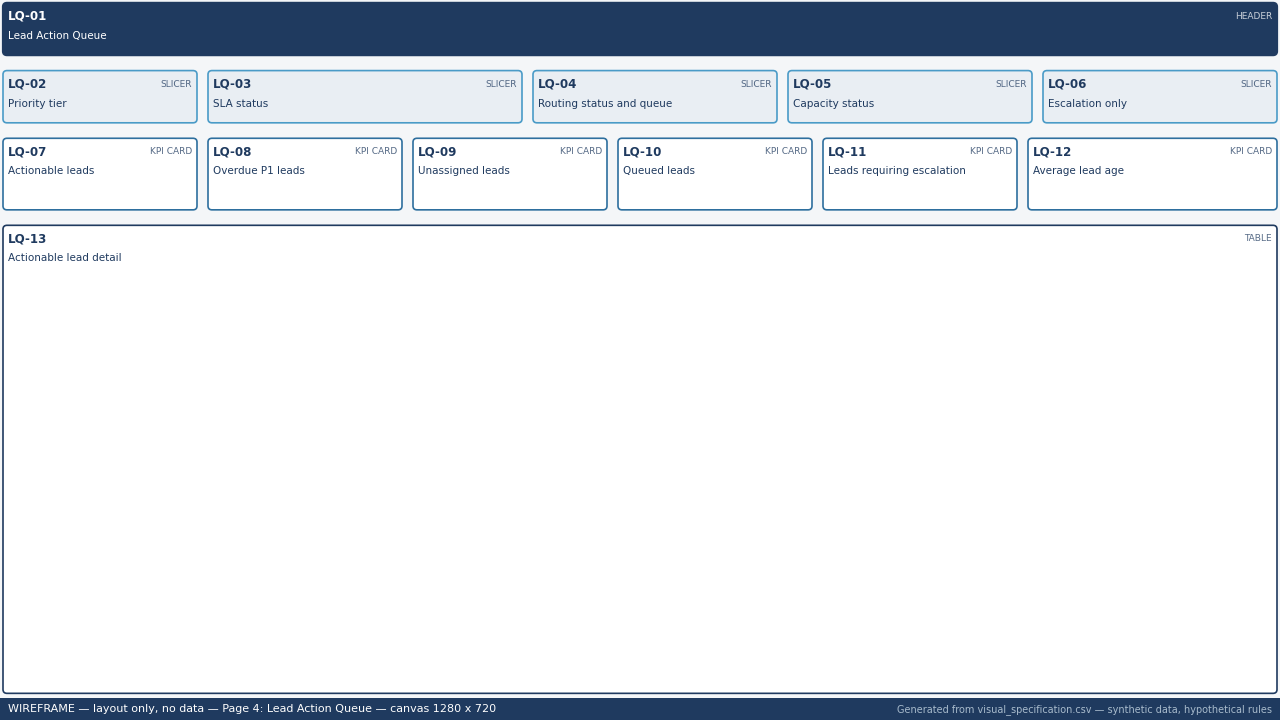

This screenshot's page, from the dashboard's own definition file:
{"tool":"powerbi","page":{"name":"Lead Action Queue","canvas":[1920,1080],"ordinal":3},"visuals":[{"type":"textbox","box":[9.2,0,1809.2,108.6],"z":0},{"type":"slicer","fields":{"Values":["ActionQueue.priority_tier"]},"box":[12,128.8,305.5,104.9],"z":1000},{"type":"slicer","fields":{"Values":["ActionQueue.capacity_status"]},"box":[1209.2,128.8,174.8,104.9],"z":2000},{"type":"slicer","fields":{"Values":["ActionQueue.sla_status"]},"box":[340.5,128.8,605.5,104.9],"z":3000},{"type":"slicer","fields":{"Values":["ActionQueue.queue_name"]},"box":[960.7,130.7,230.1,104.9],"z":4000},{"type":"slicer","fields":{"Values":["ActionQueue.requires_escalation"]},"box":[1404.3,128.8,390.2,104.9],"z":5000},{"type":"cardVisual","fields":{"Data":["_Measures.Actionable Leads"]},"box":[12.9,235.6,305.5,88.3],"z":6000},{"type":"cardVisual","fields":{"Data":["_Measures.Unassigned Leads"]},"box":[625.8,244.8,305.5,88.3],"z":7000},{"type":"cardVisual","fields":{"Data":["_Measures.Queued Leads"]},"box":[946,244.8,305.5,88.3],"z":8000},{"type":"cardVisual","fields":{"Data":["_Measures.Leads Requiring Escalation"]},"box":[1275.5,244.8,305.5,88.3],"z":9000},{"type":"cardVisual","fields":{"Data":["_Measures.Average Lead Age (Days)"]},"box":[1599.4,244.8,305.5,88.3],"z":10000},{"type":"cardVisual","fields":{"Data":["_Measures.Overdue P1 Leads"]},"box":[320.2,244.8,305.5,88.3],"z":11000},{"type":"tableEx","title":"Action Queu Highest Priority First","fields":{"Values":["Sum(ActionQueue.action_rank)","ActionQueue.lead_id","ActionQueue.priority_tier","ActionQueue.sla_status","Sum(ActionQueue.hours_remaining_or_overdue)","Sum(ActionQueue.lead_age_days)","ActionQueue.routing_status","ActionQueue.queue_name","ActionQueue.current_owner_rm_id","ActionQueue.capacity_status","ActionQueue.requires_escalation","ActionQueue.recommended_next_action"]},"box":[12.9,347.9,1892,692],"z":12000}]}

Visuals, with their boxes in screenshot pixels (x1, y1, x2, y2), scaled from the page's 1920x1080 canvas onto the 1280x720 screenshot:
textbox: Rect(6, 0, 1212, 72)
slicer - ActionQueue.priority_tier: Rect(8, 86, 212, 156)
slicer - ActionQueue.capacity_status: Rect(806, 86, 923, 156)
slicer - ActionQueue.sla_status: Rect(227, 86, 631, 156)
slicer - ActionQueue.queue_name: Rect(640, 87, 794, 157)
slicer - ActionQueue.requires_escalation: Rect(936, 86, 1196, 156)
cardVisual - _Measures.Actionable Leads: Rect(9, 157, 212, 216)
cardVisual - _Measures.Unassigned Leads: Rect(417, 163, 621, 222)
cardVisual - _Measures.Queued Leads: Rect(631, 163, 834, 222)
cardVisual - _Measures.Leads Requiring Escalation: Rect(850, 163, 1054, 222)
cardVisual - _Measures.Average Lead Age (Days): Rect(1066, 163, 1270, 222)
cardVisual - _Measures.Overdue P1 Leads: Rect(213, 163, 417, 222)
"Action Queu Highest Priority First" tableEx: Rect(9, 232, 1270, 693)
